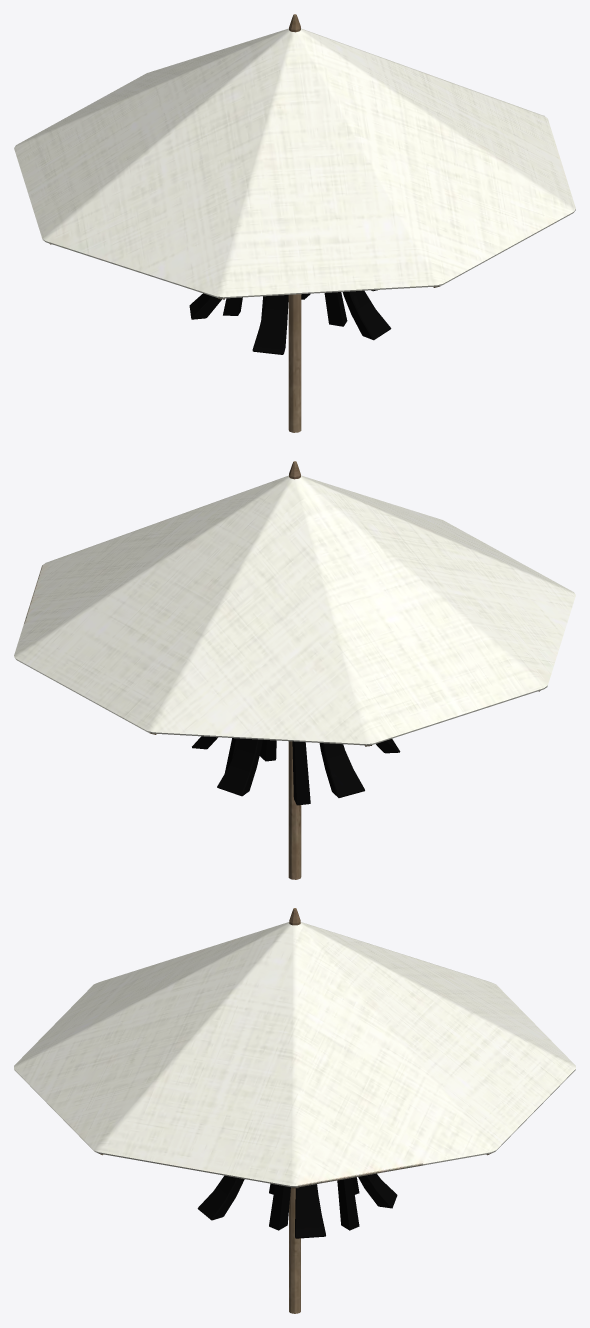
The model's file is beach-table.glb.
The picture shows the model from 3 angles, top to bottom: view 1: azimuth 30°, elevation 25°; view 2: azimuth 150°, elevation 25°; view 3: azimuth 270°, elevation 25°; orthographic projection. The views are drawn at different scales.
Parts seen in each view (by area): view 1: pCone2, pCylinder7, pCylinder9; view 2: pCone2, pCylinder7, pCylinder9; view 3: pCone2, pCylinder7, pCylinder9.
Boxes of the visible parts, left/top/right/bottom form: pCone2: left=14, top=14, right=575, bottom=432; pCylinder7: left=189, top=290, right=391, bottom=354; pCylinder9: left=223, top=292, right=347, bottom=326; pCone2: left=14, top=461, right=575, bottom=879; pCylinder7: left=192, top=736, right=400, bottom=797; pCylinder9: left=224, top=738, right=310, bottom=805; pCone2: left=14, top=908, right=575, bottom=1313; pCylinder7: left=197, top=1173, right=397, bottom=1238; pCylinder9: left=269, top=1177, right=359, bottom=1230.
Size of the model in its own units: 618475 by 488842 by 618475.
3 materials, 3 textured.
